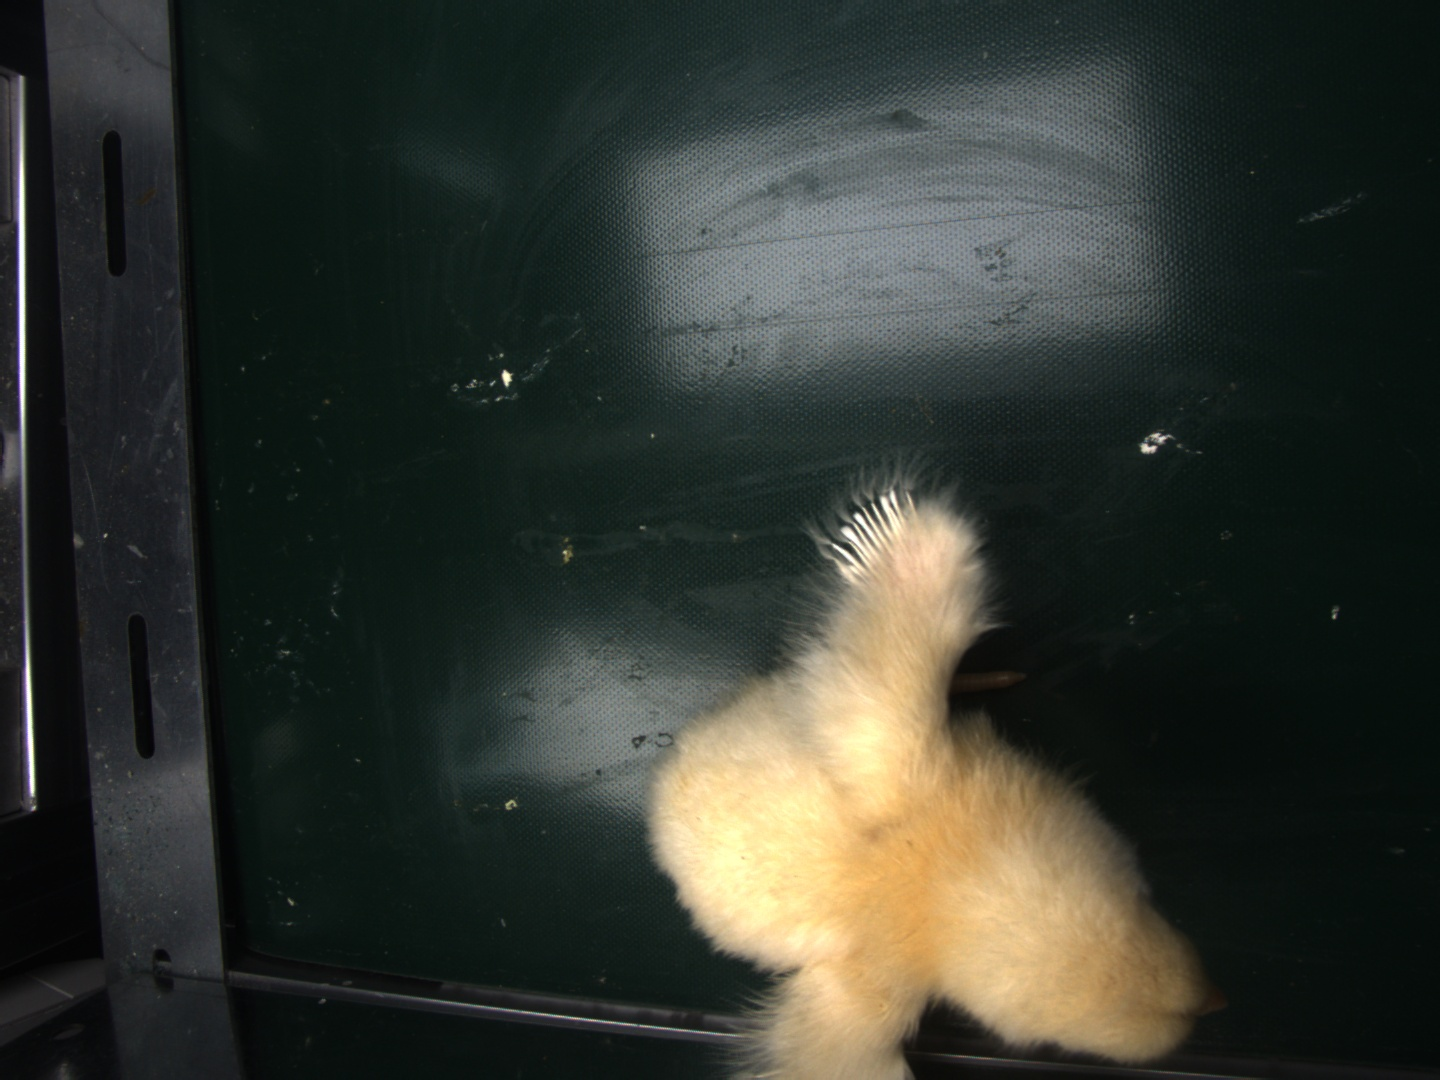male: (835, 492, 915, 580)
